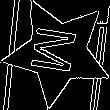M_E: (29, 26, 87, 79)
